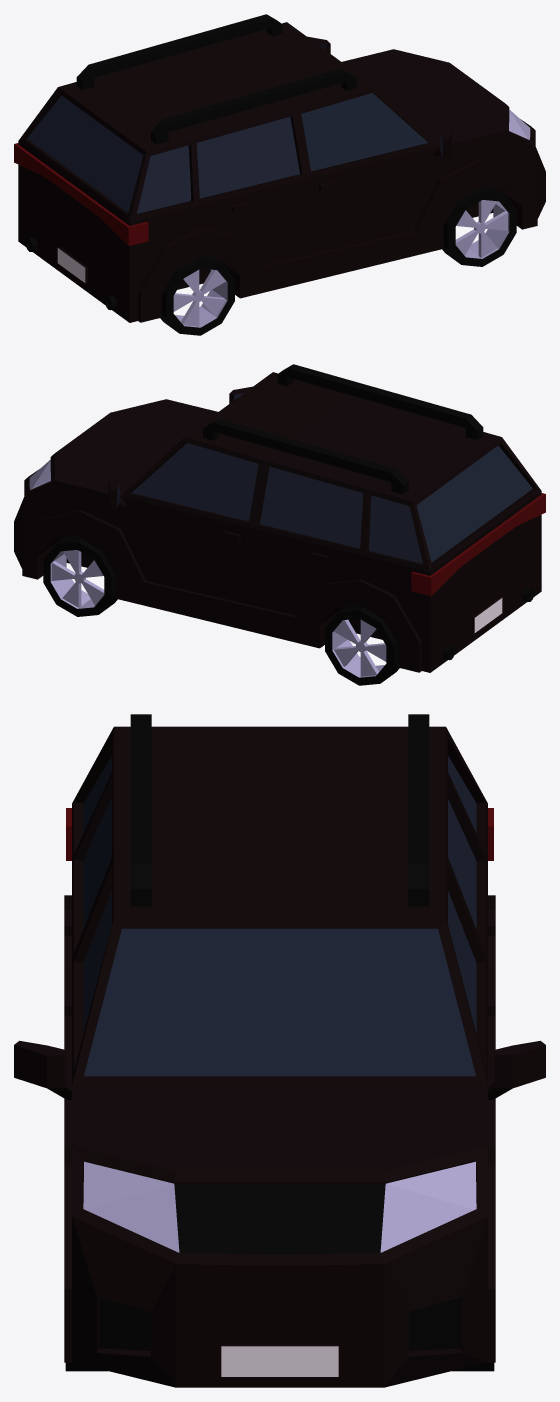
File: suv.glb
3 views of the same model, one above another, from view 1: azimuth 30°, elevation 25°; view 2: azimuth 150°, elevation 25°; view 3: azimuth 270°, elevation 25° (orthographic). The views are drawn at different scales.
Visible parts, largest first — view 1: body_paint, body_glass, body_trim, body_tail, wheel_rr_rim (×2), wheel_fr_tire (×2), wheel_fr_rim, wheel_rr_tire, body_chrome; view 2: body_paint, body_glass, body_trim, body_tail, wheel_rl_rim (×2), wheel_fl_tire (×2), wheel_fl_rim, wheel_rl_tire, body_chrome; view 3: body_paint, body_glass, body_trim, body_lamp, body_chrome.
Part boxes in pixels (bbox=[...]): body_paint: bbox=[18, 22, 545, 322]; body_glass: bbox=[27, 42, 442, 213]; body_trim: bbox=[25, 14, 356, 310]; body_tail: bbox=[14, 143, 148, 246]; wheel_rr_rim (×2): bbox=[173, 269, 227, 327]; wheel_fr_tire (×2): bbox=[442, 186, 516, 266]; wheel_fr_rim: bbox=[455, 200, 509, 258]; wheel_rr_tire: bbox=[163, 258, 234, 335]; body_chrome: bbox=[57, 248, 85, 282]; body_paint: bbox=[14, 372, 541, 672]; body_glass: bbox=[117, 392, 532, 563]; body_trim: bbox=[203, 364, 534, 660]; body_tail: bbox=[411, 493, 545, 596]; wheel_rl_rim (×2): bbox=[332, 619, 386, 677]; wheel_fl_tire (×2): bbox=[43, 536, 117, 616]; wheel_fl_rim: bbox=[50, 550, 104, 608]; wheel_rl_tire: bbox=[325, 608, 396, 685]; body_chrome: bbox=[474, 598, 502, 632]; body_paint: bbox=[14, 726, 545, 1387]; body_glass: bbox=[83, 756, 476, 1076]; body_trim: bbox=[99, 714, 460, 1350]; body_lamp: bbox=[83, 1161, 476, 1252]; body_chrome: bbox=[221, 1346, 338, 1376].
Bounding box in the file's own units: 5.04 × 2.3 × 2.81.
